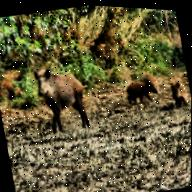boar: (35, 57, 100, 136), (110, 65, 163, 112), (163, 73, 192, 117)
